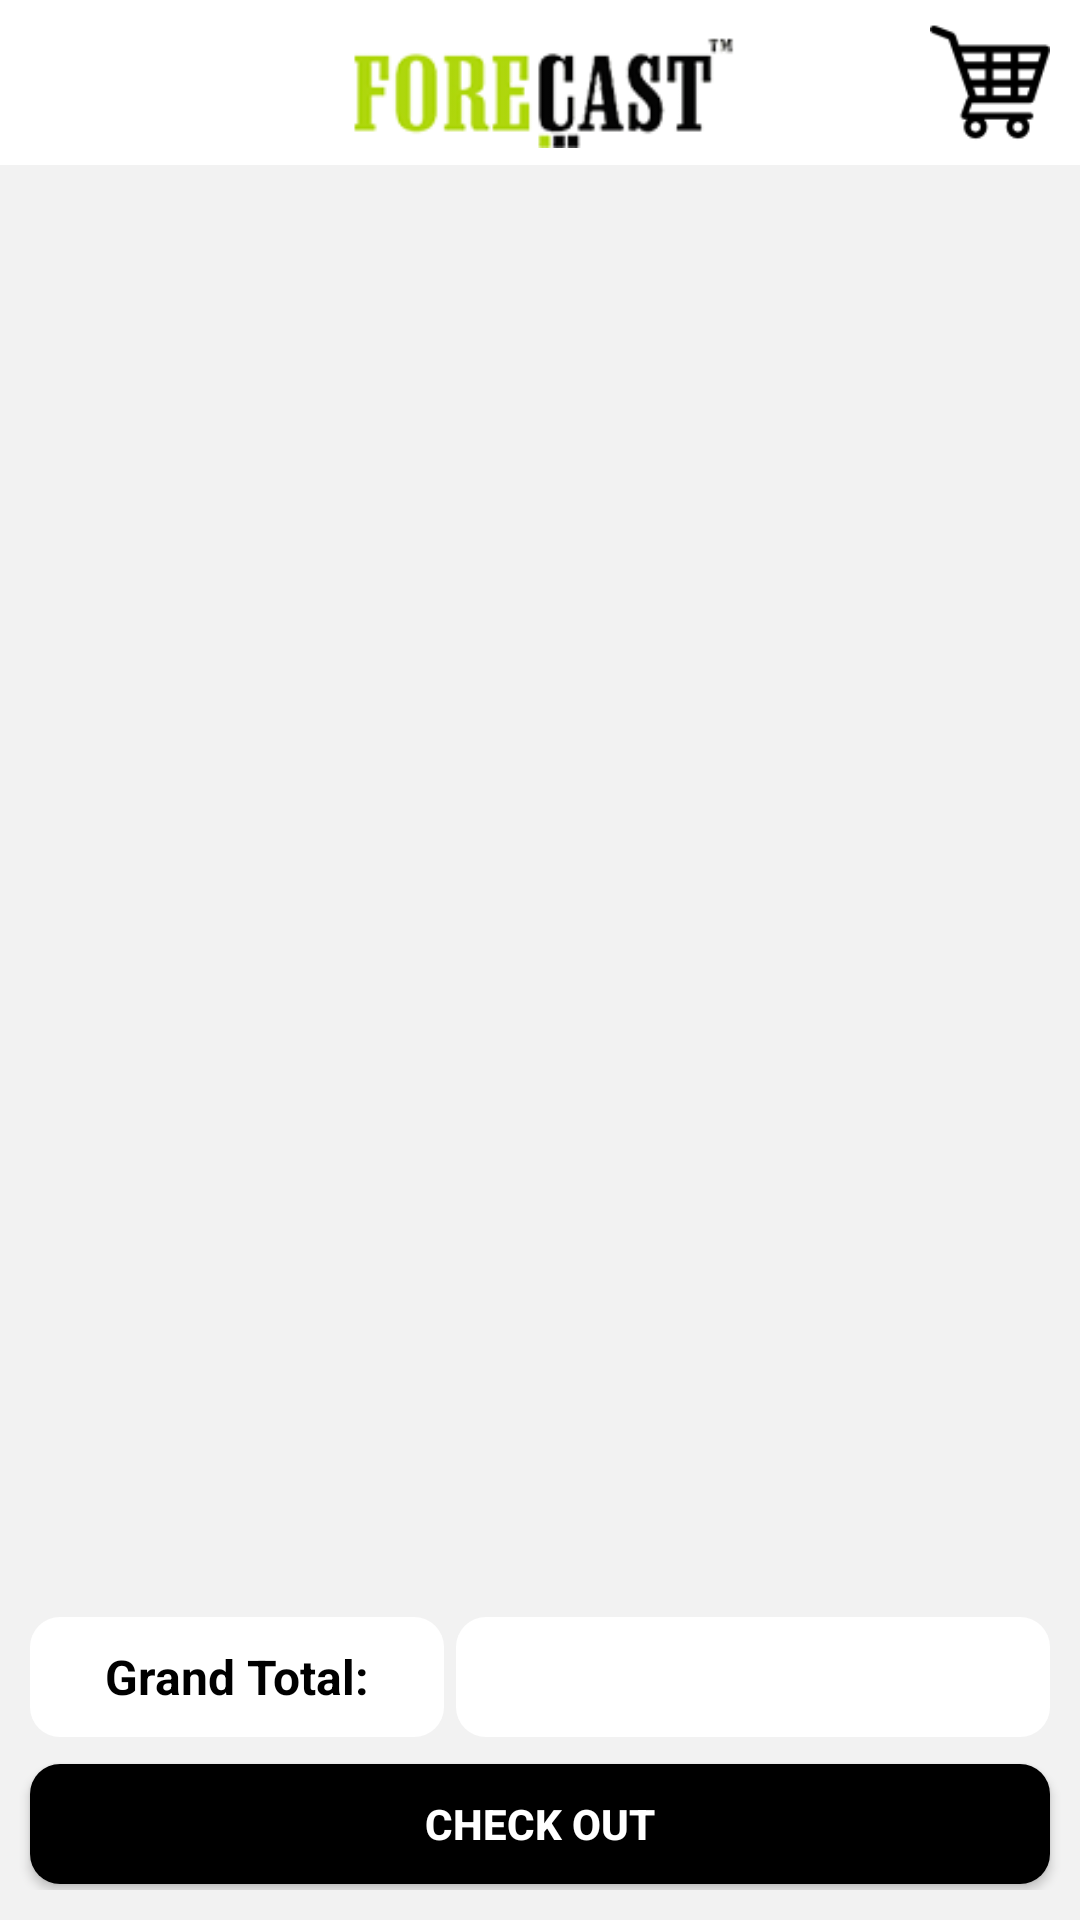

Screen size 1080*1920. Icon name, then its center in pixels as (x=x, y=y):
caart: (x=990, y=82)
